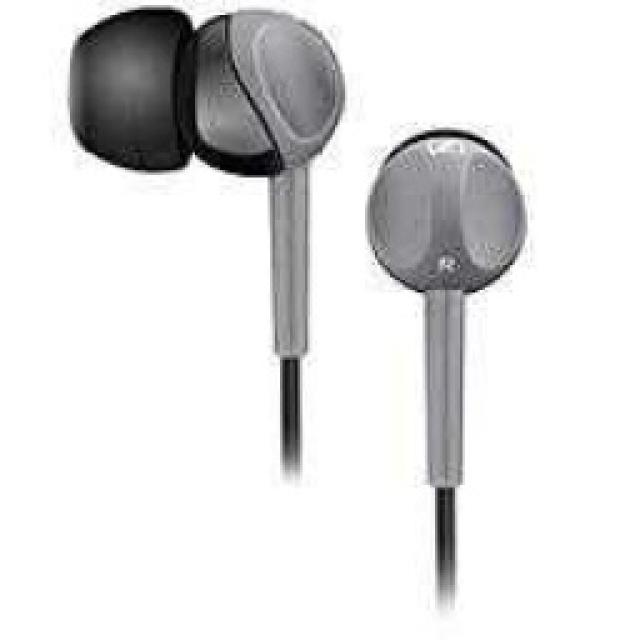headphones: (65, 2, 345, 482)
